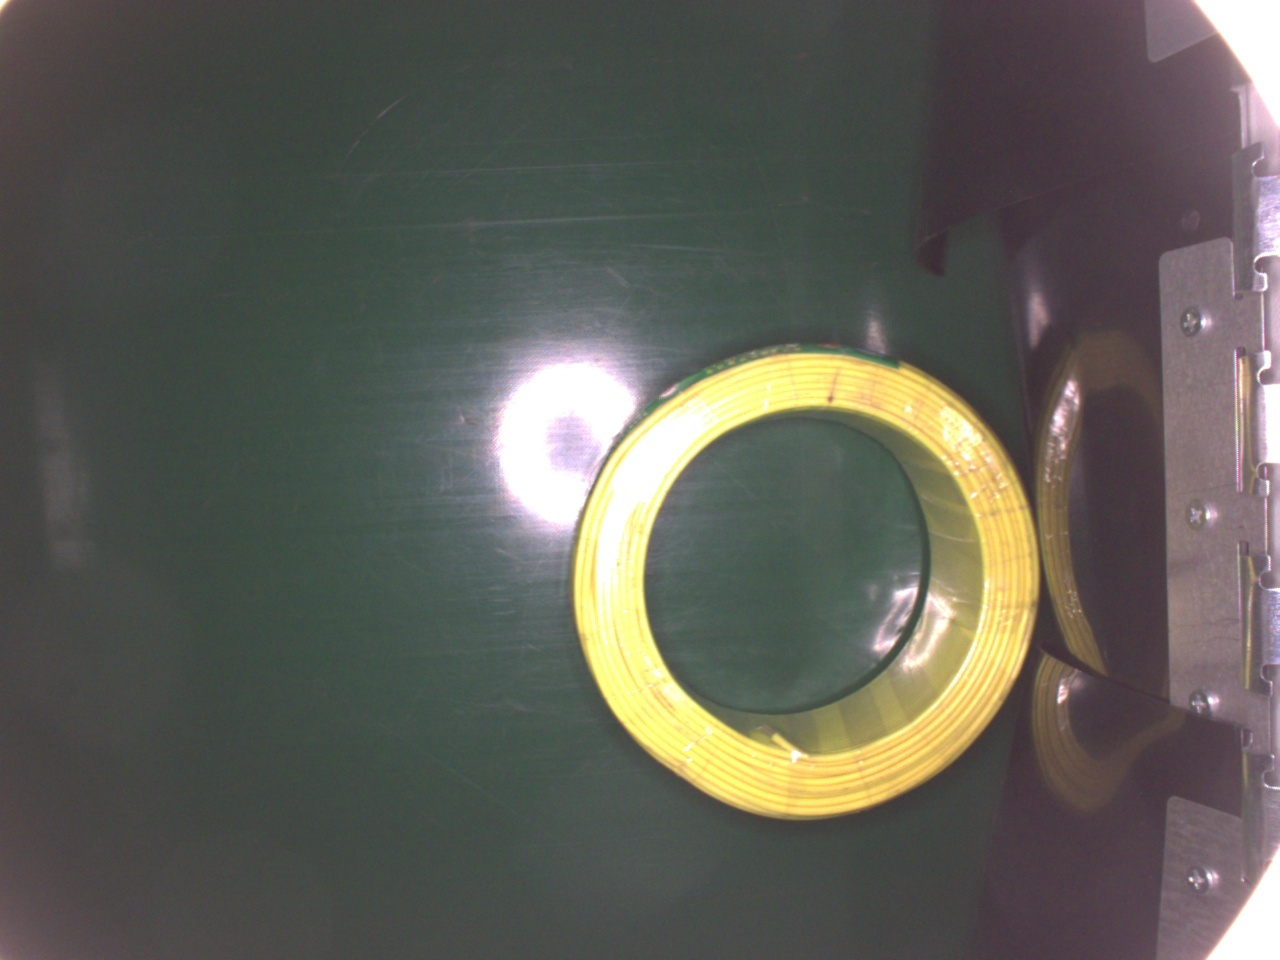yellow: (570, 341, 1039, 819)
